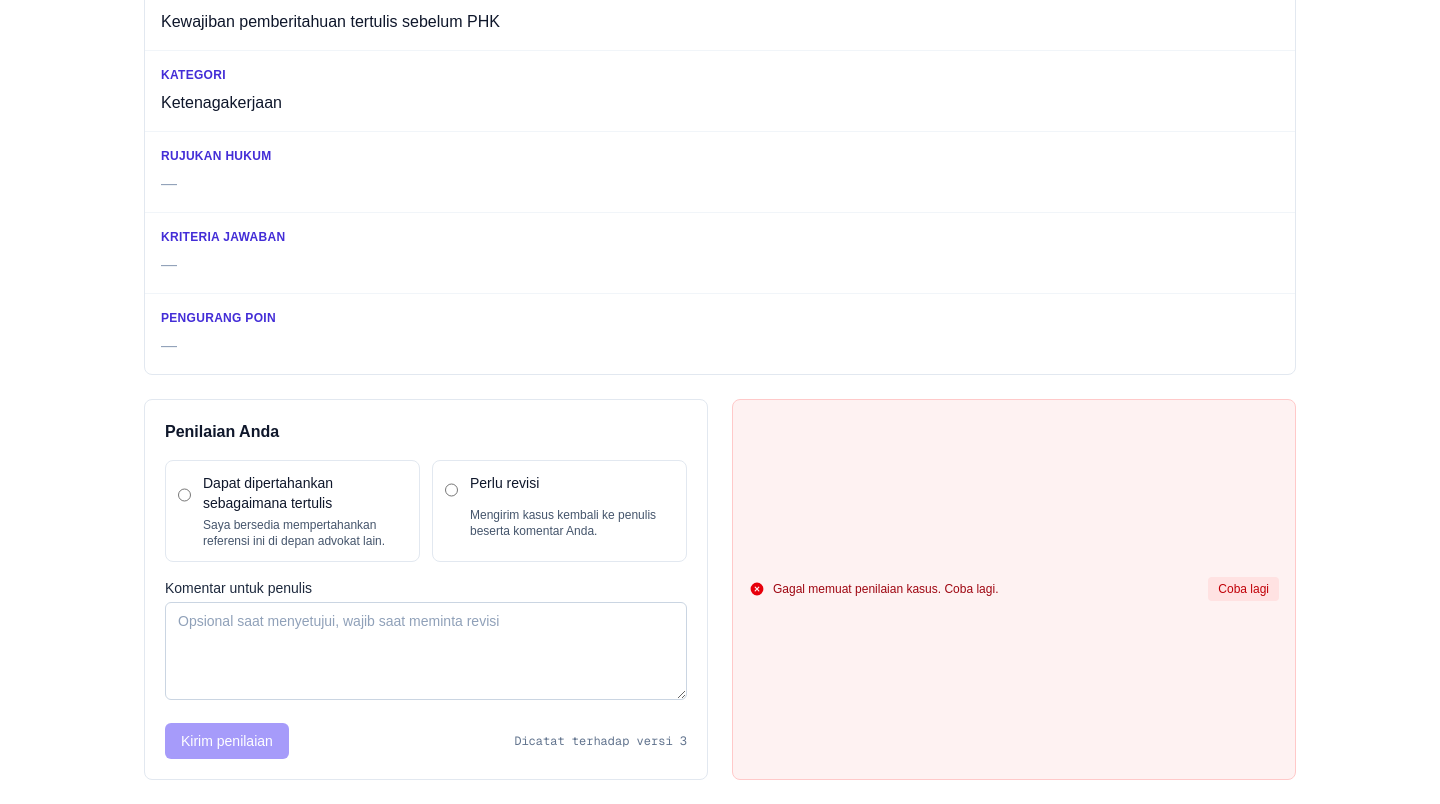
Test: ReviewAssignmentPage › keeps the form when the second reviewer cannot be loaded, and offers a retry
(page scrolled)
Expected: the form "Penilaian Anda" is shown, [144,399,708,780]
Expected: the message shows "Gagal memuat penilaian kasus. Coba lagi.", [773,582,998,596]
What coordinates should you click on to do the following:
click the button "Coba lagi"
I would click on:
 (1244, 589)
Its box is [1208,577,1279,601].
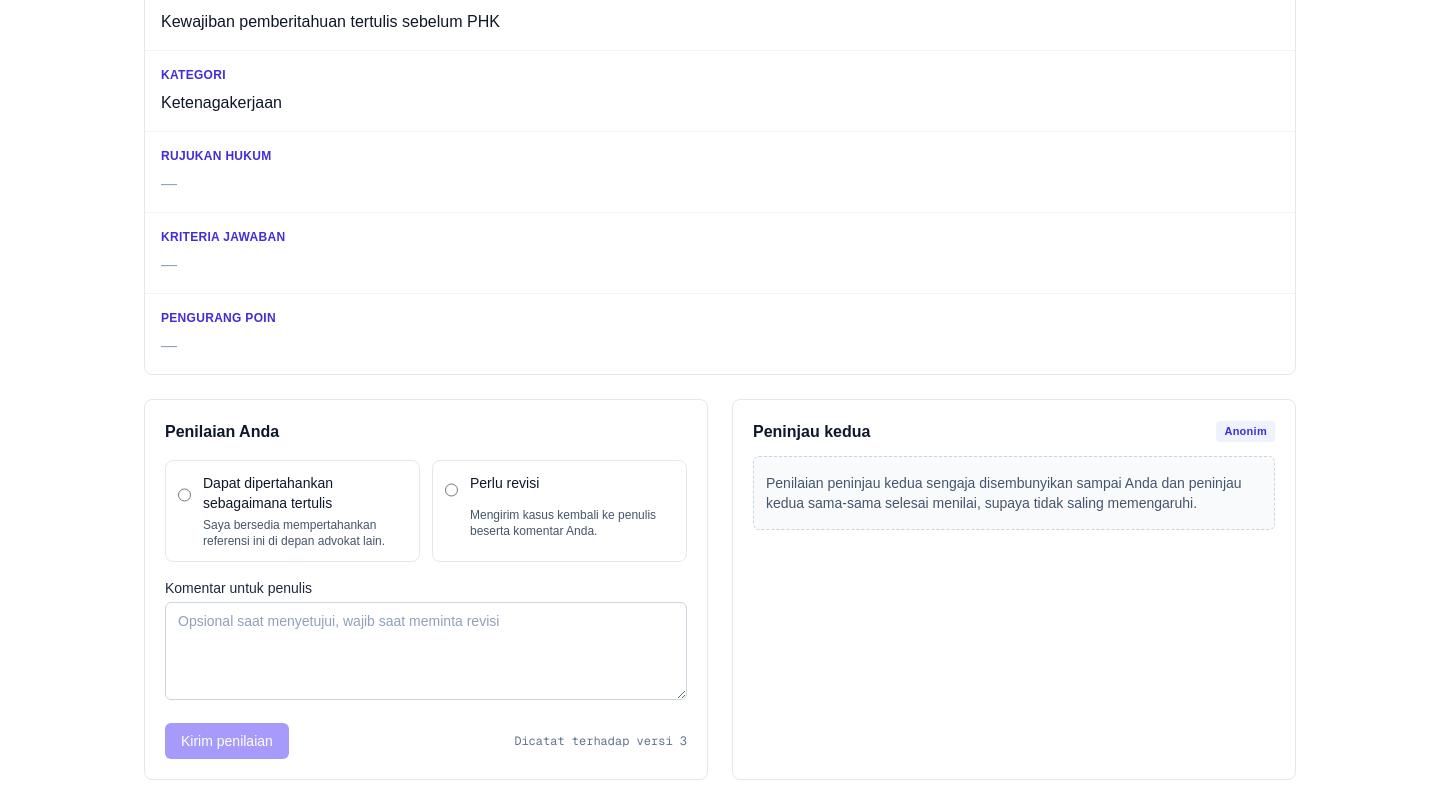
Now the text "Anonim" is shown, box [1216,421,1275,442]
